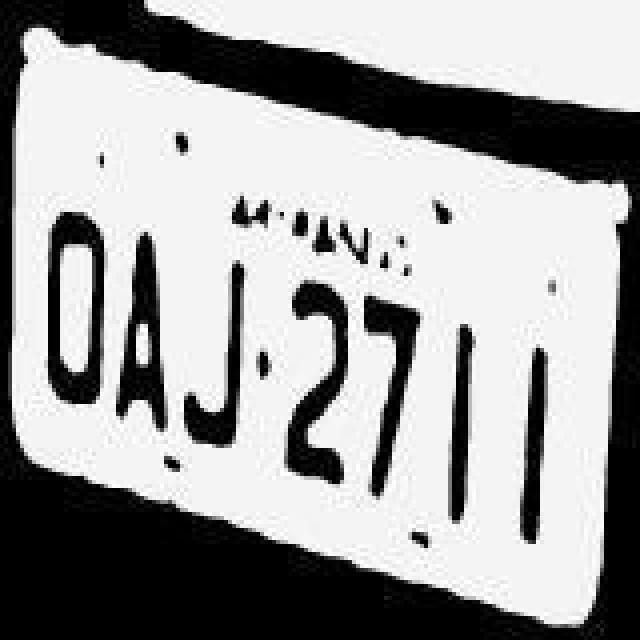1: (510, 304, 562, 568), (438, 284, 490, 532)
2: (280, 252, 360, 508)
7: (356, 282, 428, 526)
A: (118, 194, 186, 446)
J: (178, 234, 254, 462)
O: (42, 192, 118, 448)
